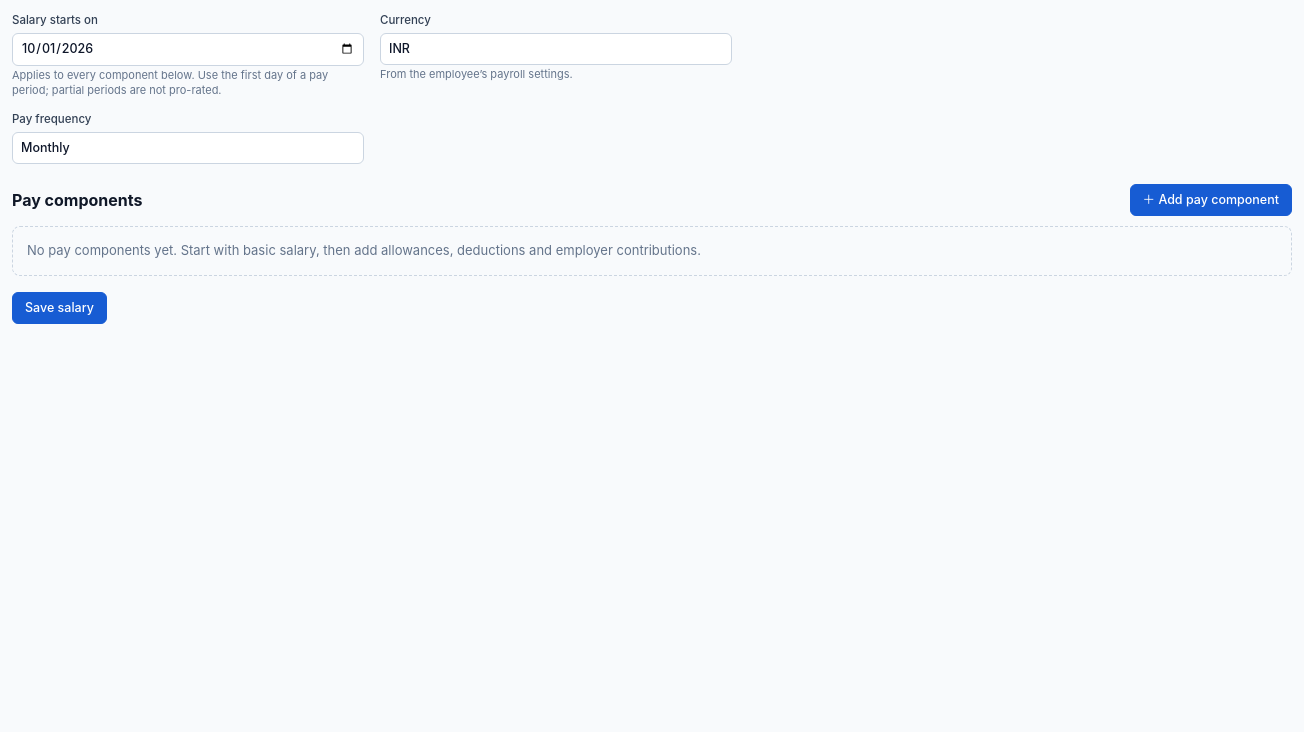
Test case: shows the EPF and ESI estimate as guidance with its status and source, without adding it to the salary
This screenshot has width=1304, height=732.
Click the button "＋ Add pay component": (1211, 200) x1=1130 y1=184 x2=1292 y2=216
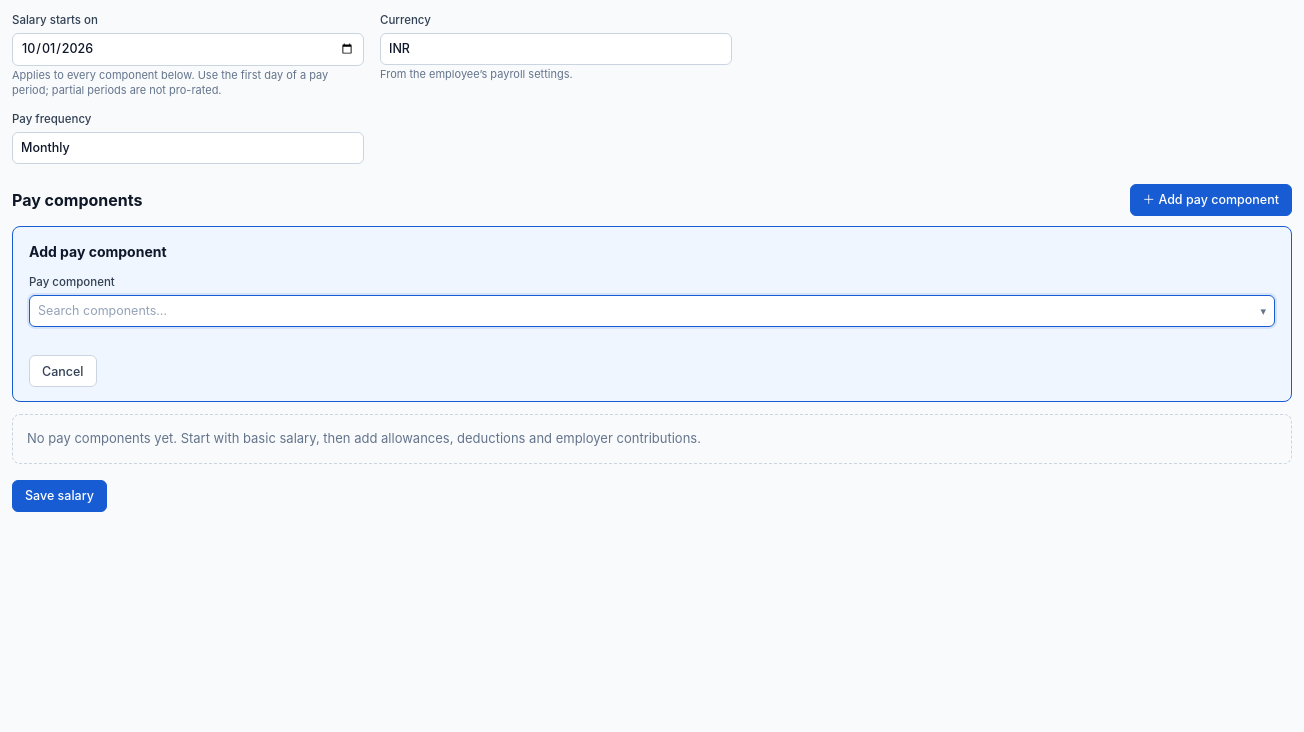
Click the dropdown named "Pay component": (103, 310) x1=29 y1=295 x2=1275 y2=327
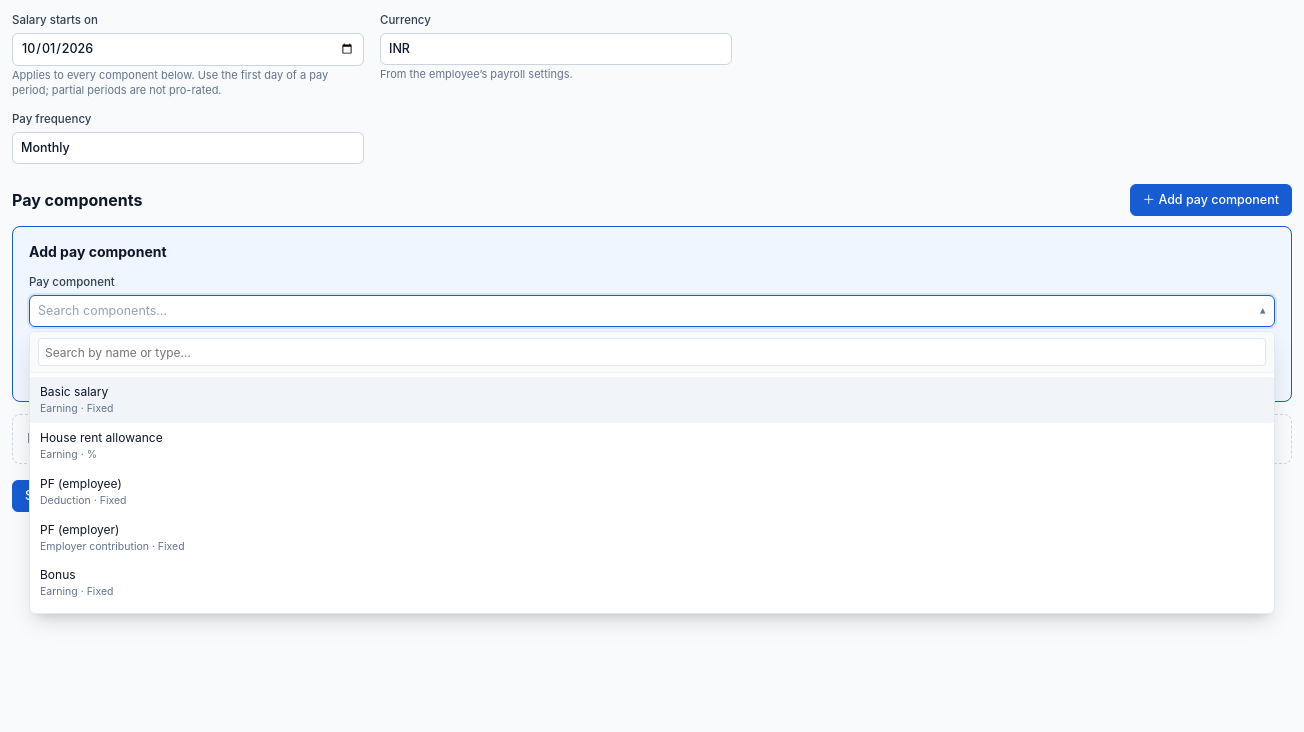
Click the option "Basic salary Earning · Fixed": (74, 392) x1=30 y1=377 x2=1274 y2=423
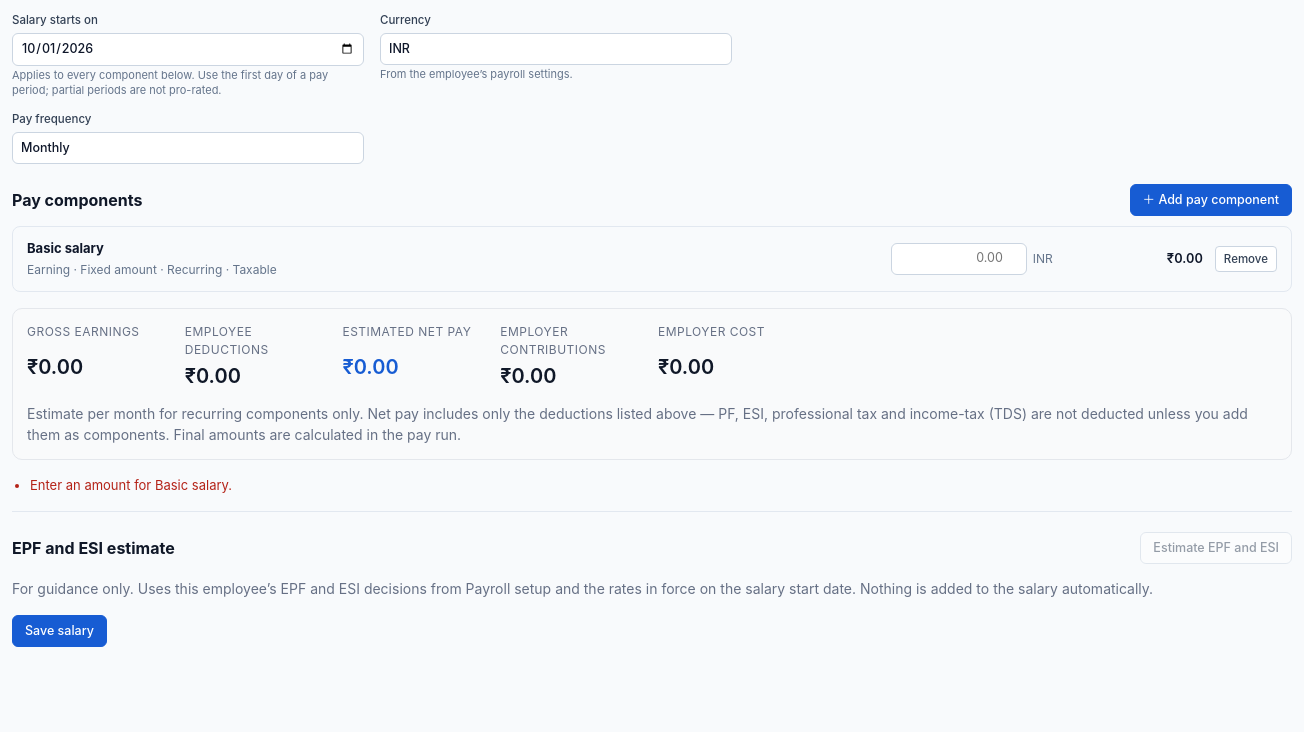
In the number field named "Basic salary amount in INR": (959, 259) x1=891 y1=243 x2=1027 y2=275, type "30000"
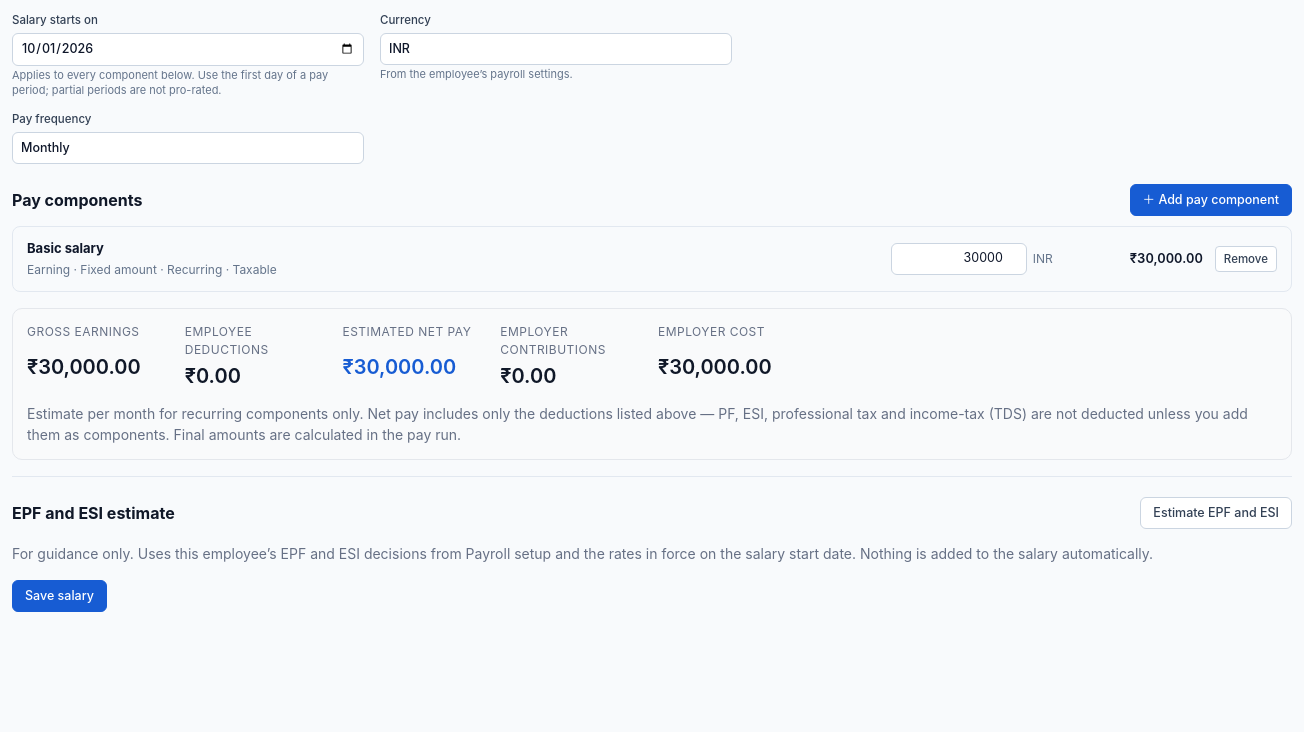
Click the button "Estimate EPF and ESI": (1216, 512) x1=1140 y1=496 x2=1292 y2=528
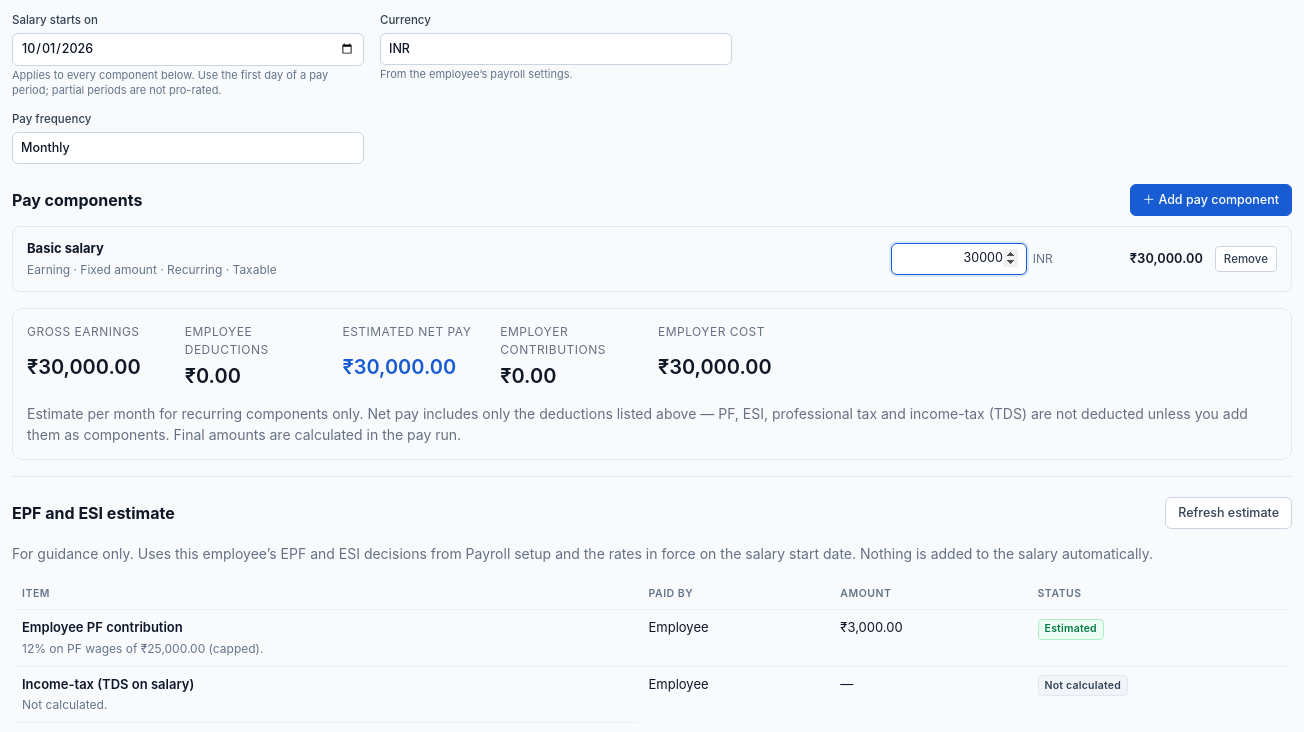
Result: the text "₹0.00" below "Employee deductions" is shown at x1=185 y1=364 x2=241 y2=388
Result: the text "Not calculated" is shown at x1=1038 y1=675 x2=1128 y2=696
